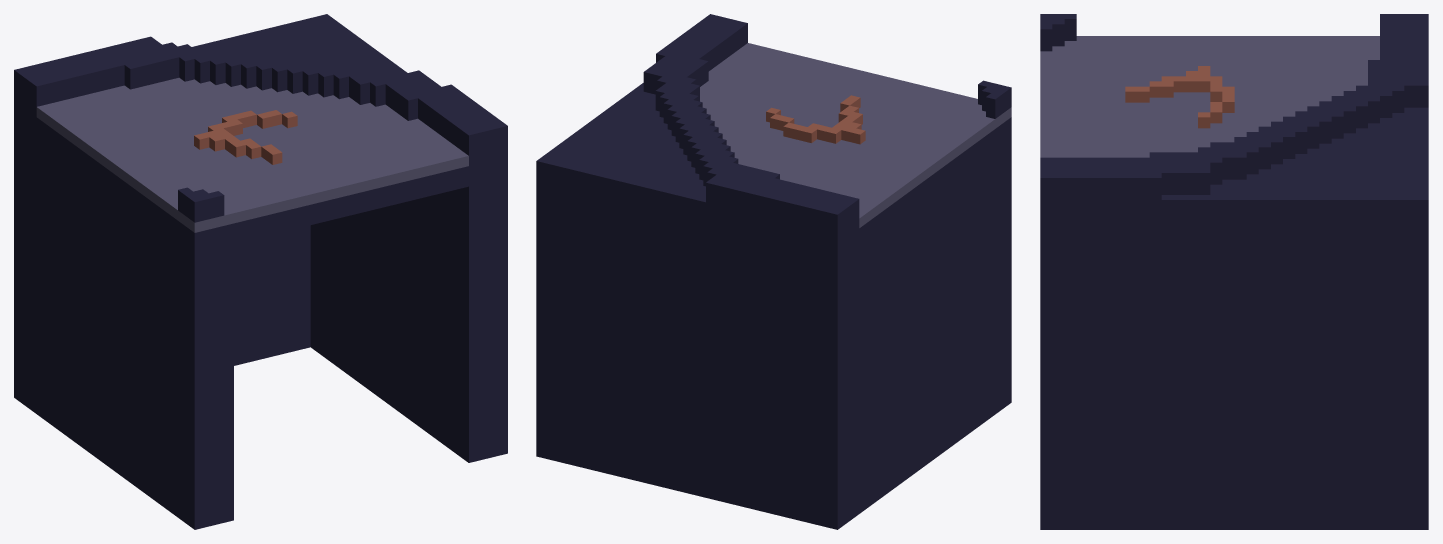
File: CornerSlowConveyer.obj
The picture shows the model from 3 angles, left to right: view 1: azimuth 30°, elevation 25°; view 2: azimuth 150°, elevation 25°; view 3: azimuth 270°, elevation 25°; orthographic projection. The views are drawn at different scales.
Bounding box in the file's own units: 3.2 × 3.2 × 3.2.
1 material, 1 textured.
